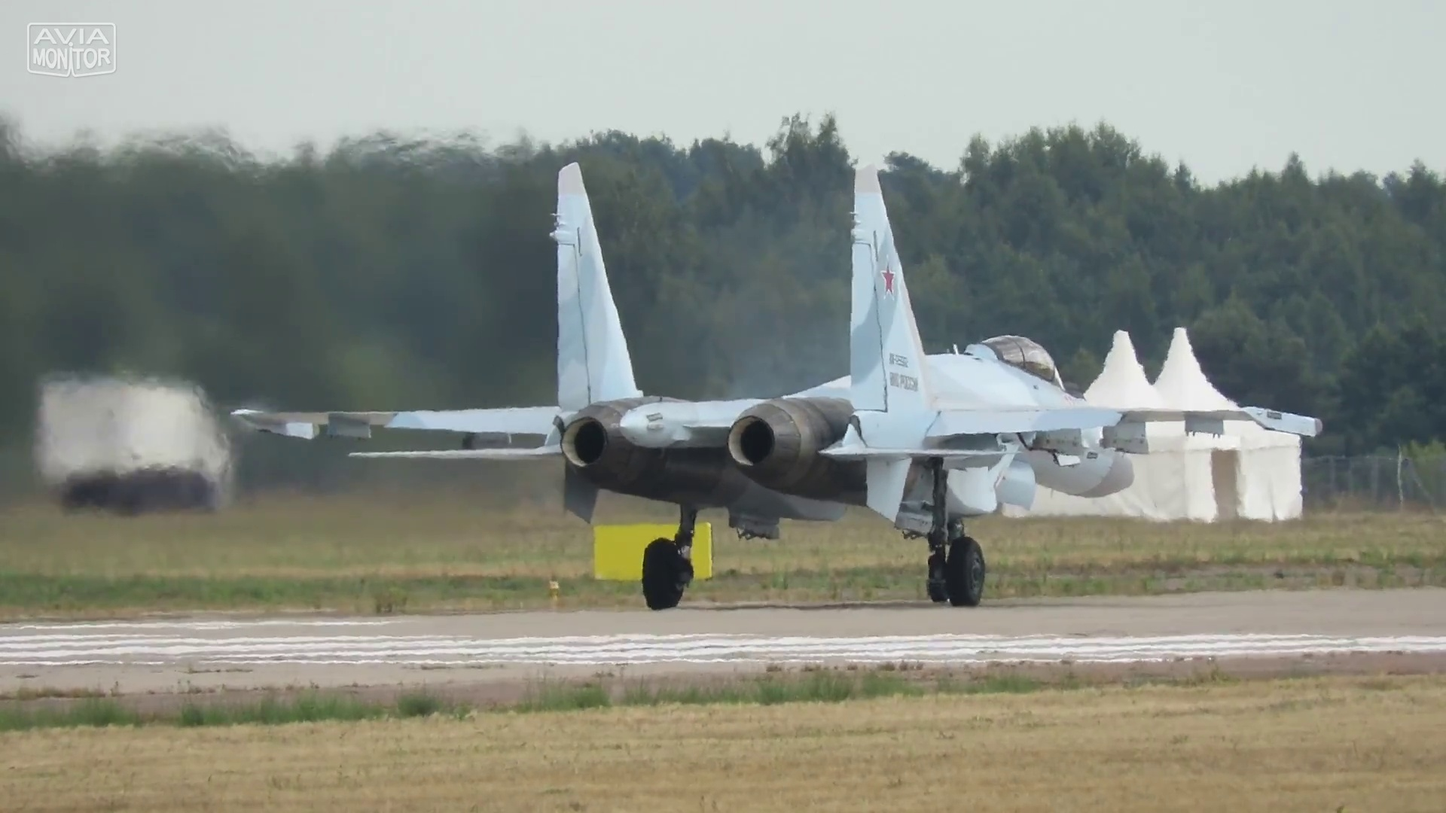Su35: (222, 153, 1333, 618)
